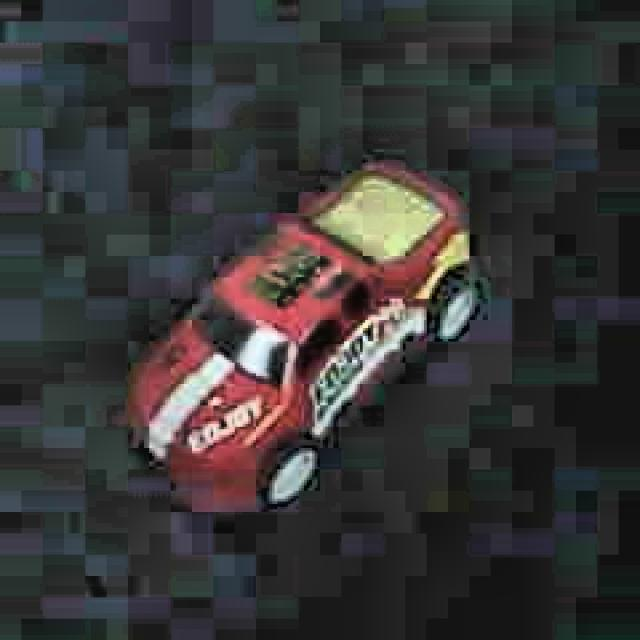car: (122, 153, 483, 521)
